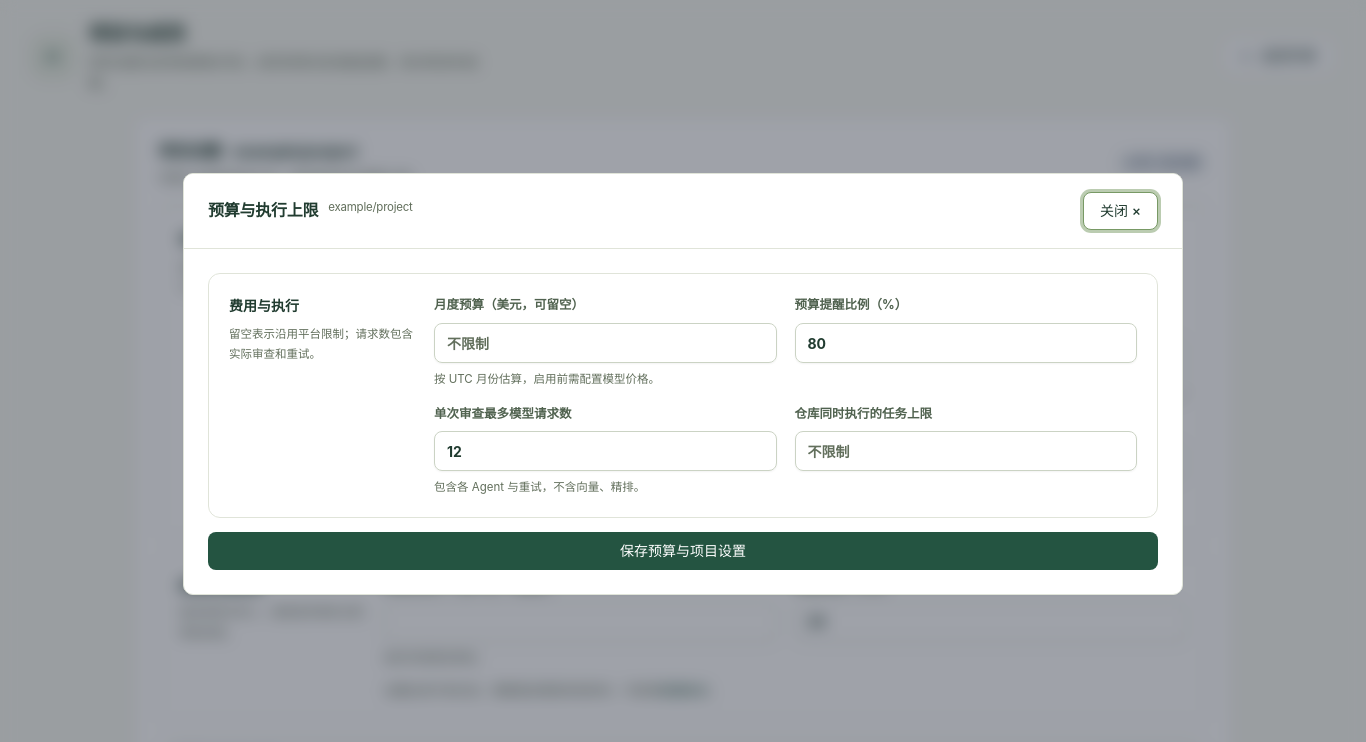
Test case: 预算深链接直接打开指定仓库的表单，关闭后恢复页面滚动
Expected: the dialog "预算与执行上限" shows "example/project", [328,200,412,214]
Expected: the number field labelled "月度预算（美元，可留空） 按 UTC 月份估算，启用前需配置模型价格。" is shown, [434,323,776,363]
Click the button with aria-label "关闭详情": (1120, 211) [1083,192,1158,230]
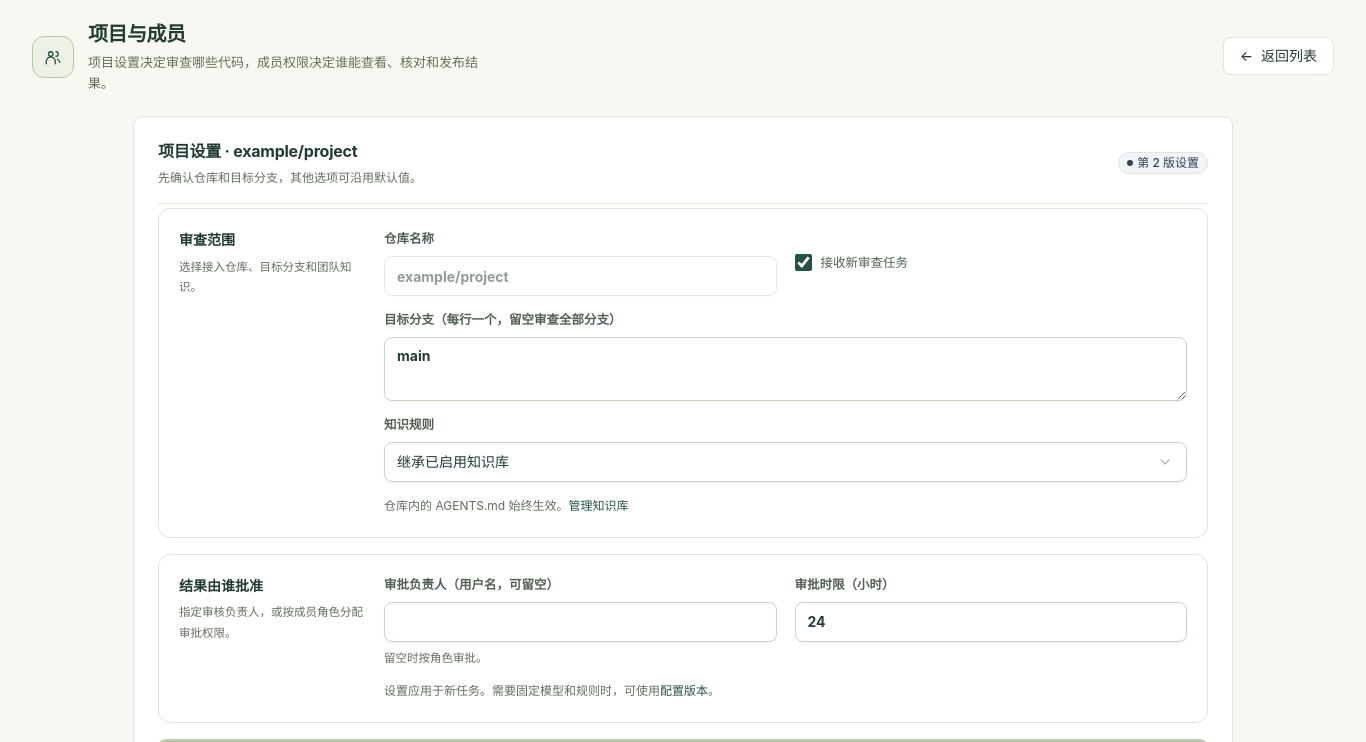
Expected: the dialog is gone
